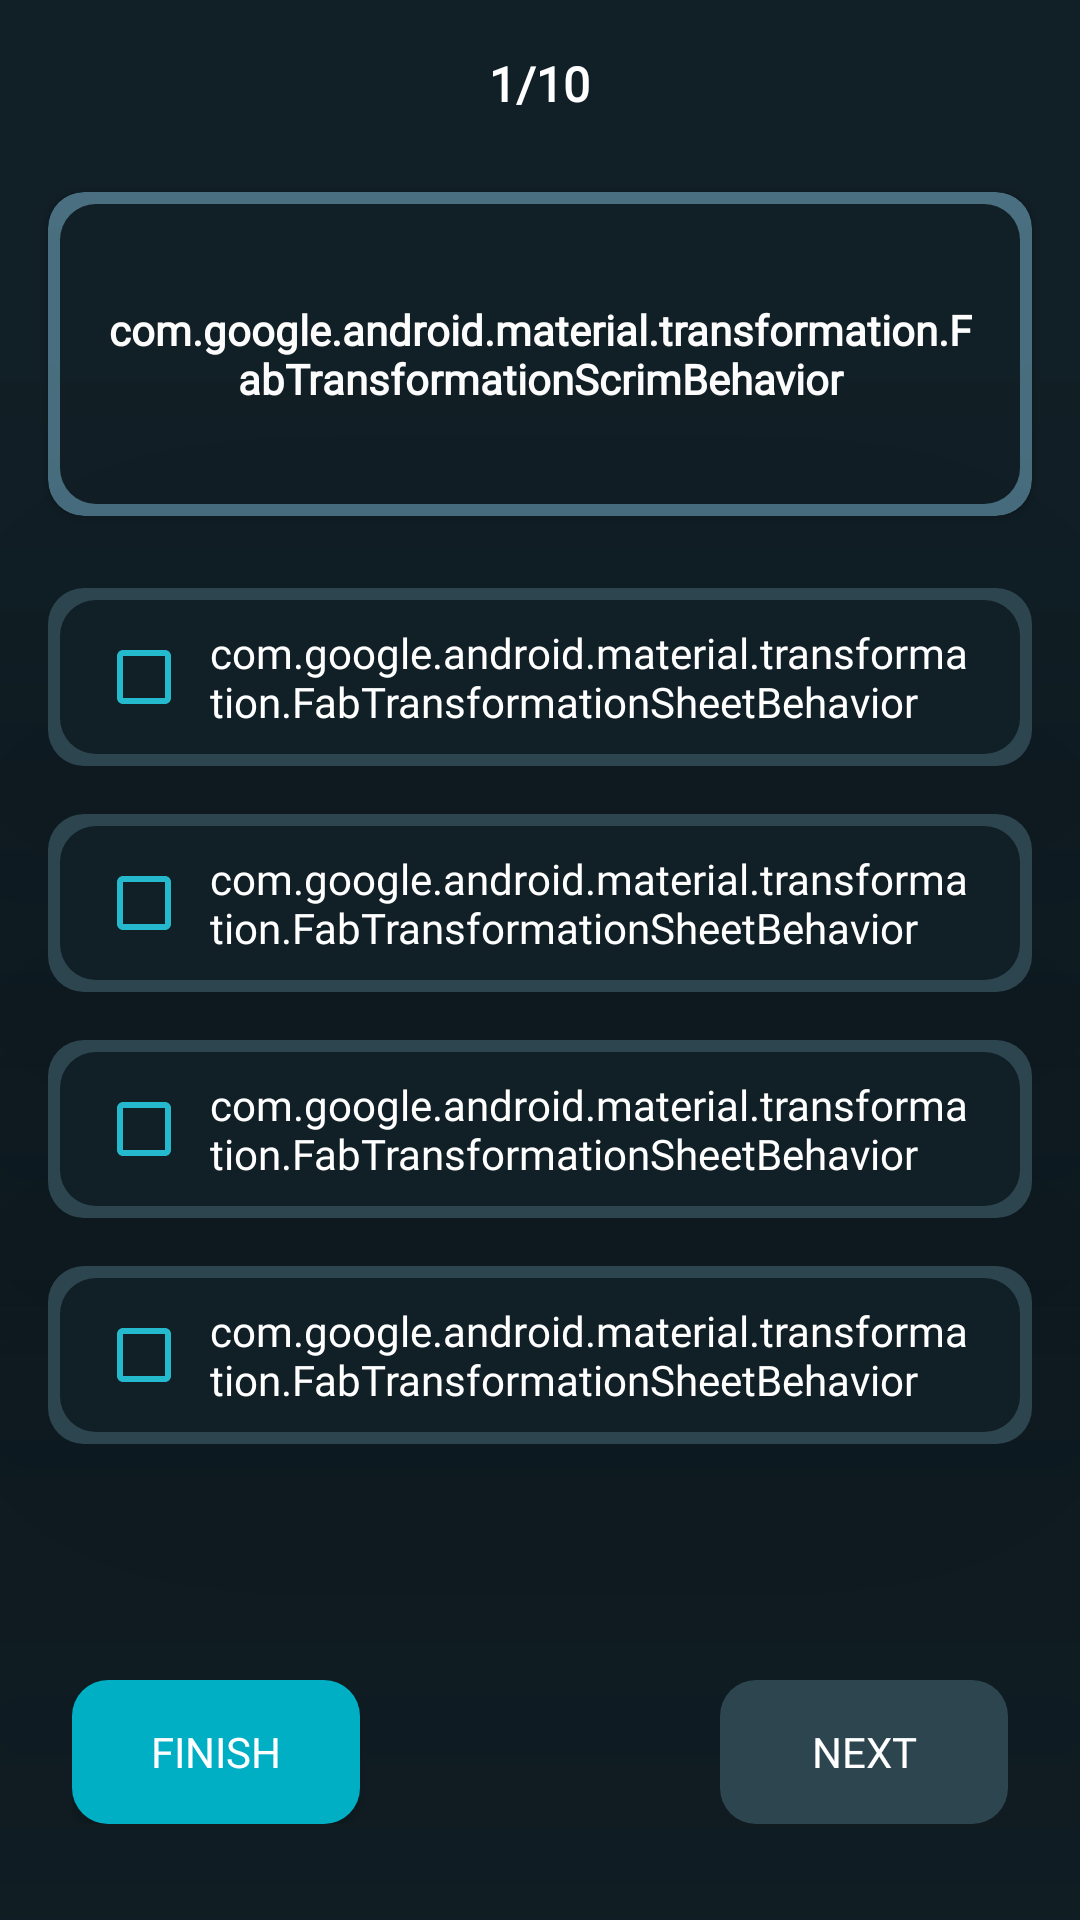

Icons on this 1080×1920 Android screen, each with the point to tap as [x,y]:
un check: [144,677], [144,903], [144,1129], [144,1355]
